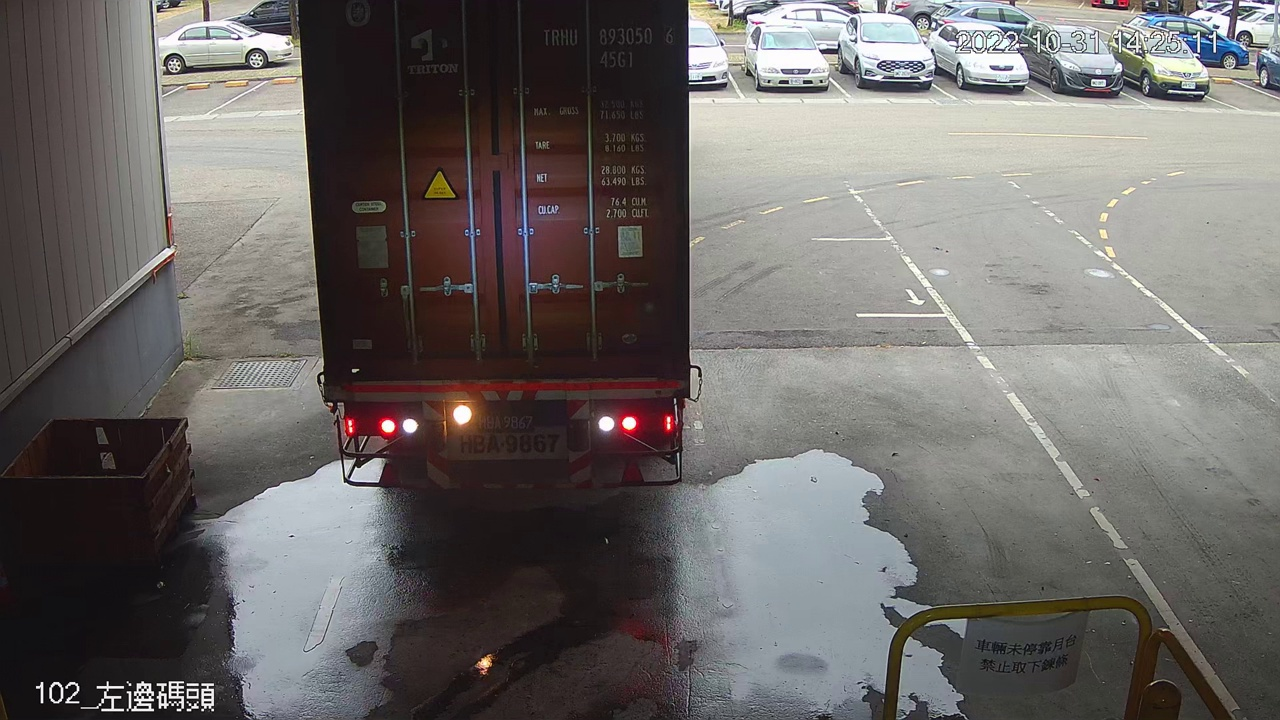container: (537, 16, 680, 72)
